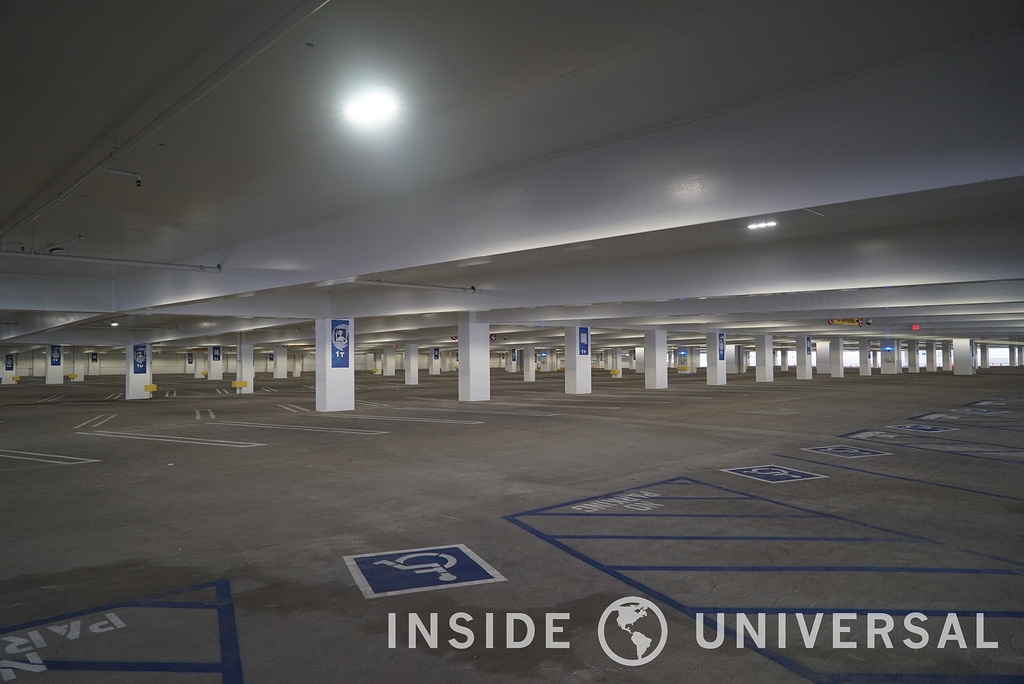empyt_space: (211, 510, 792, 684), (664, 453, 1024, 563), (763, 435, 1024, 497), (96, 420, 388, 451), (6, 430, 253, 463), (214, 412, 483, 440), (197, 396, 310, 419), (85, 407, 217, 425)
